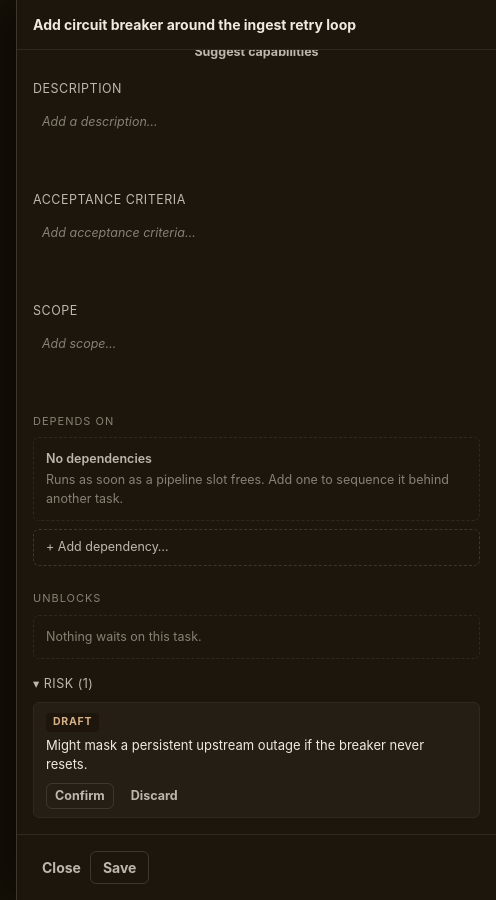
Test case: TaskDetailSheet › groups notes by type and round-trips draft confirm/discard
(page scrolled)
Expected: the button "▾ Risk (1)" is shown, x1=33 y1=675 x2=480 y2=694
Expected: the text "Draft" is shown, x1=46 y1=713 x2=99 y2=732
Step 1. Click the button "Confirm" → (80, 796), box x1=46 y1=782 x2=114 y2=808
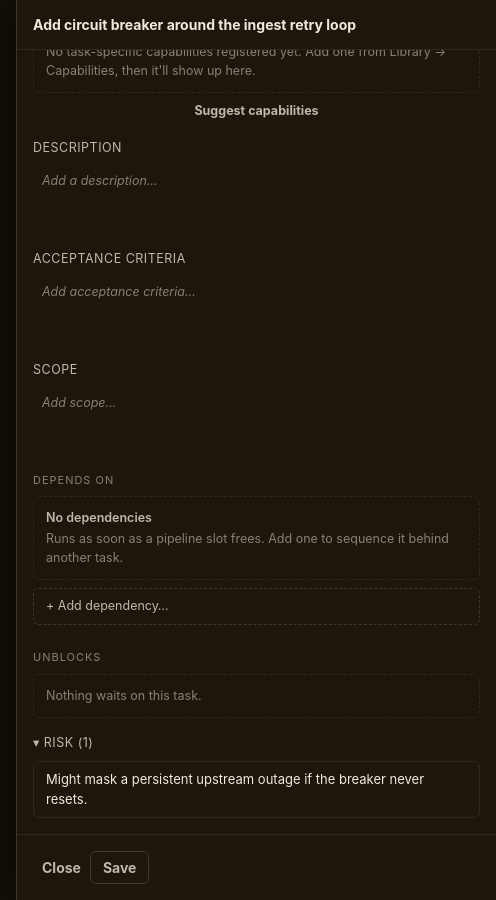
Result: the text "Draft" is gone
